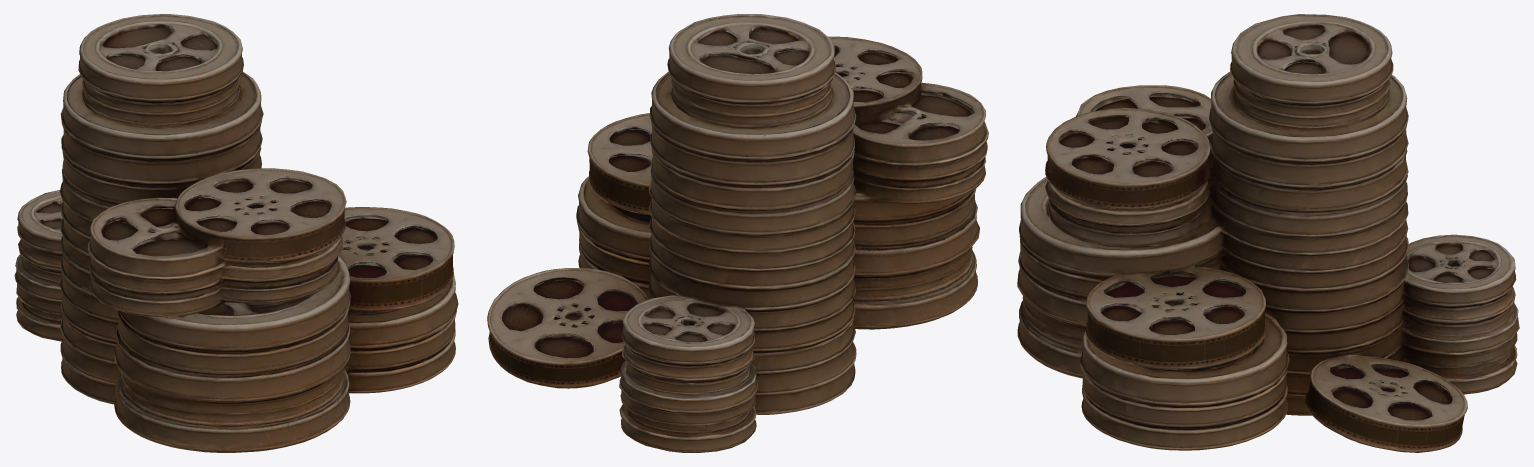
The model's file is m_tins.glb.
The picture shows the model from 3 angles, left to right: view 1: azimuth 30°, elevation 25°; view 2: azimuth 150°, elevation 25°; view 3: azimuth 270°, elevation 25°; orthographic projection.
Parts seen in each view (by area): view 1: tripo_node_ef96ed71-dfae-4263-b39e-b3a2697924a5; view 2: tripo_node_ef96ed71-dfae-4263-b39e-b3a2697924a5; view 3: tripo_node_ef96ed71-dfae-4263-b39e-b3a2697924a5.
Boxes of the visible parts, bbox=[...] form: tripo_node_ef96ed71-dfae-4263-b39e-b3a2697924a5: bbox=[14, 14, 458, 452]; tripo_node_ef96ed71-dfae-4263-b39e-b3a2697924a5: bbox=[487, 14, 988, 452]; tripo_node_ef96ed71-dfae-4263-b39e-b3a2697924a5: bbox=[1017, 14, 1519, 452].
Bounding box in the file's own units: 0.8474 × 0.7136 × 1.
1 material, 1 textured.
